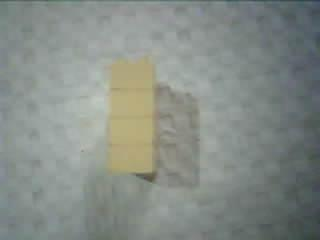lego: (104, 54, 157, 178)
